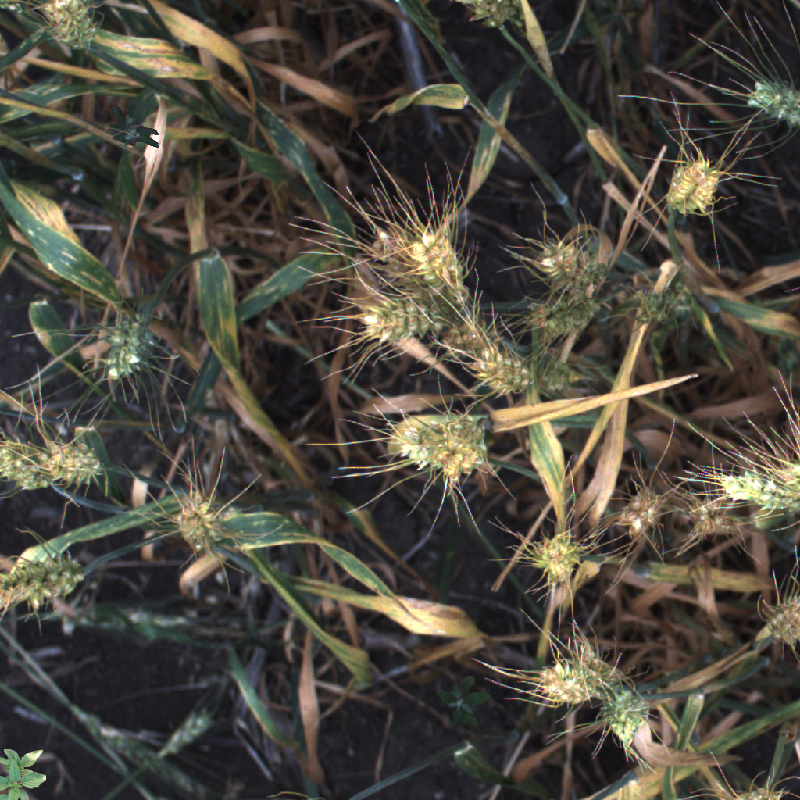spikelet: (73, 705, 213, 800), (357, 292, 462, 345), (95, 314, 160, 392), (404, 228, 467, 307), (517, 285, 606, 340), (1, 554, 82, 614), (602, 478, 671, 546), (520, 523, 590, 590), (721, 460, 799, 516), (532, 235, 606, 293), (431, 425, 497, 489), (535, 653, 610, 708), (383, 412, 452, 470), (664, 157, 723, 217), (35, 1, 98, 53), (467, 341, 528, 389), (746, 75, 799, 130), (683, 489, 740, 540), (46, 438, 100, 491), (1, 436, 54, 489), (160, 703, 214, 755), (598, 688, 648, 743), (174, 495, 221, 553), (757, 591, 799, 646), (635, 285, 688, 328), (534, 354, 583, 399), (460, 1, 521, 29)
weed: (105, 95, 167, 154), (437, 676, 490, 730), (1, 749, 46, 800)
